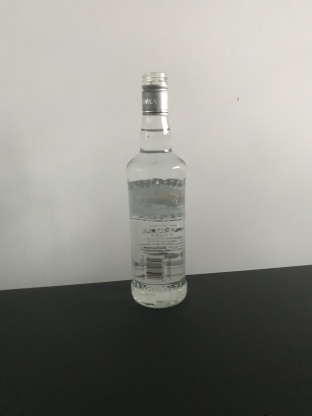nakretka: (140, 69, 169, 116)
